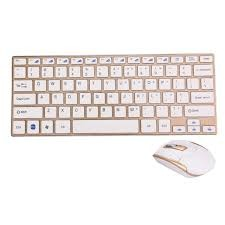keyboard: (10, 51, 220, 137)
mouse: (150, 141, 219, 179)
